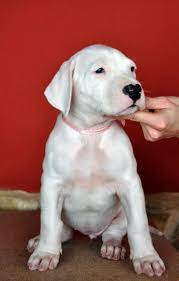dog: (36, 38, 153, 275)
